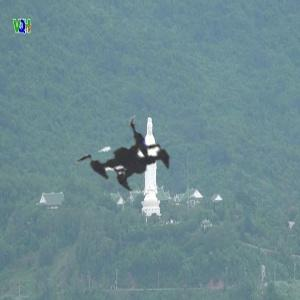drone: (9, 26, 272, 289)
